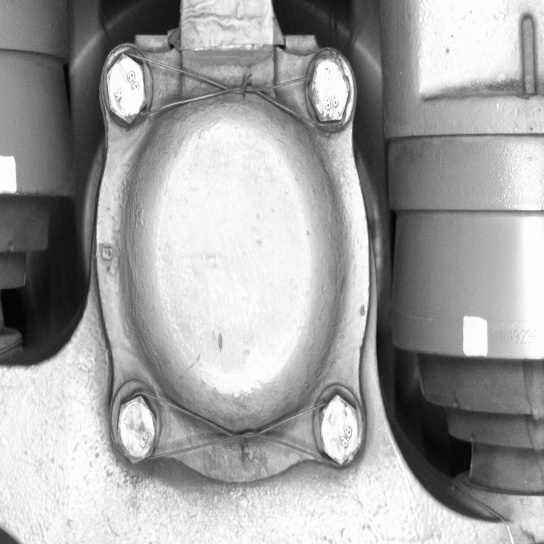IronWire: (89, 40, 356, 135), (111, 382, 367, 477)
Screw: (90, 42, 158, 132), (295, 39, 357, 135), (306, 379, 365, 475), (110, 382, 163, 473)
